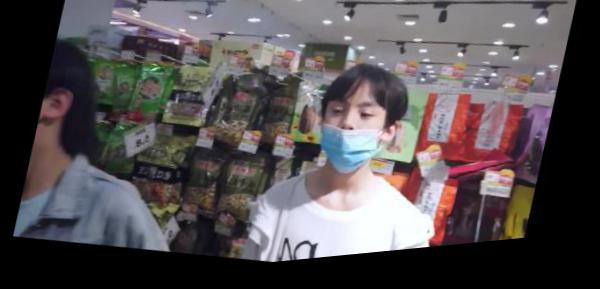WRONG: (316, 91, 390, 185)
